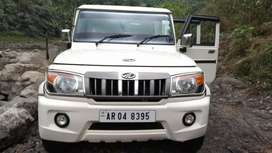AR048395: (99, 110, 156, 122)
